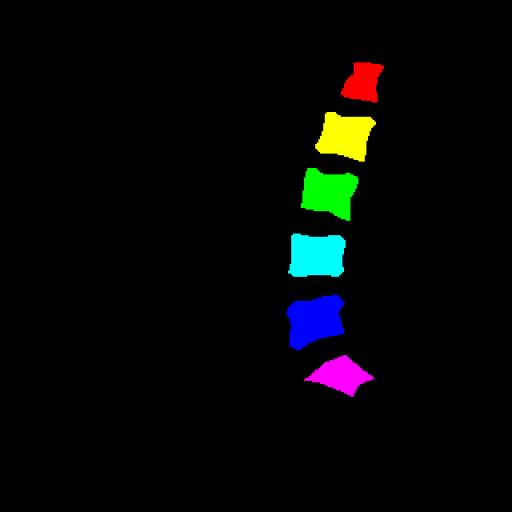L1: (341, 62, 384, 103)
L2: (315, 112, 376, 162)
L3: (301, 168, 358, 221)
L4: (288, 234, 346, 277)
L5: (287, 295, 344, 350)
S1: (305, 355, 374, 397)
